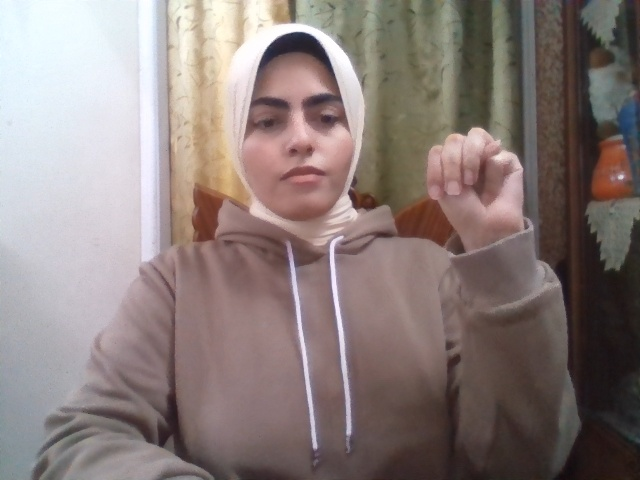M: (426, 127, 524, 241)
